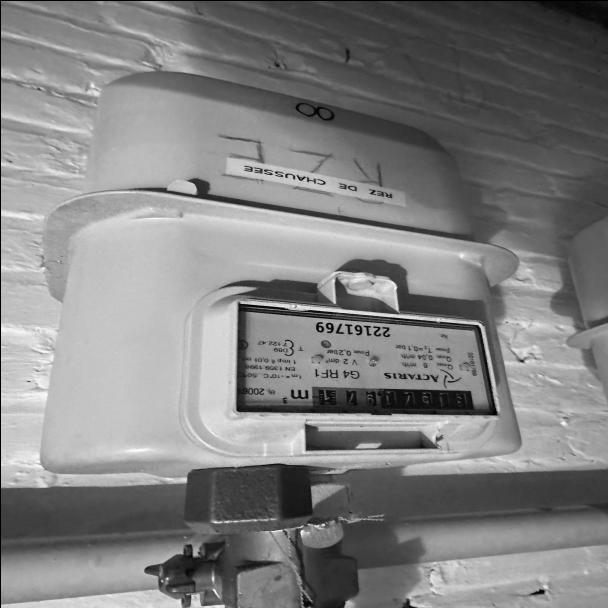1: (314, 384, 336, 406), (432, 388, 449, 413), (378, 385, 394, 411)
3: (446, 387, 468, 411)
5: (414, 385, 432, 412)
7: (339, 382, 361, 408), (394, 386, 412, 412)
9: (362, 385, 378, 409)
cm: (306, 381, 376, 414)
counter: (377, 383, 474, 413)
